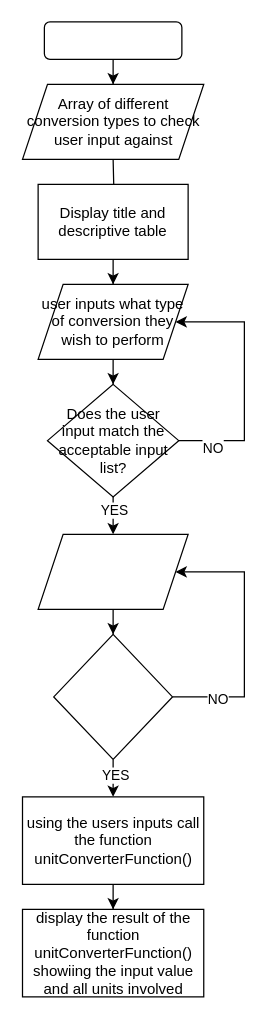
This 276x1020 diagram has some shape labels left out. Each missing label, with the centre of its shape:
Is the users input an integer?: (x=112, y=696)
START: (x=112, y=40)
User inputs a value to be converted: (x=112, y=571)
